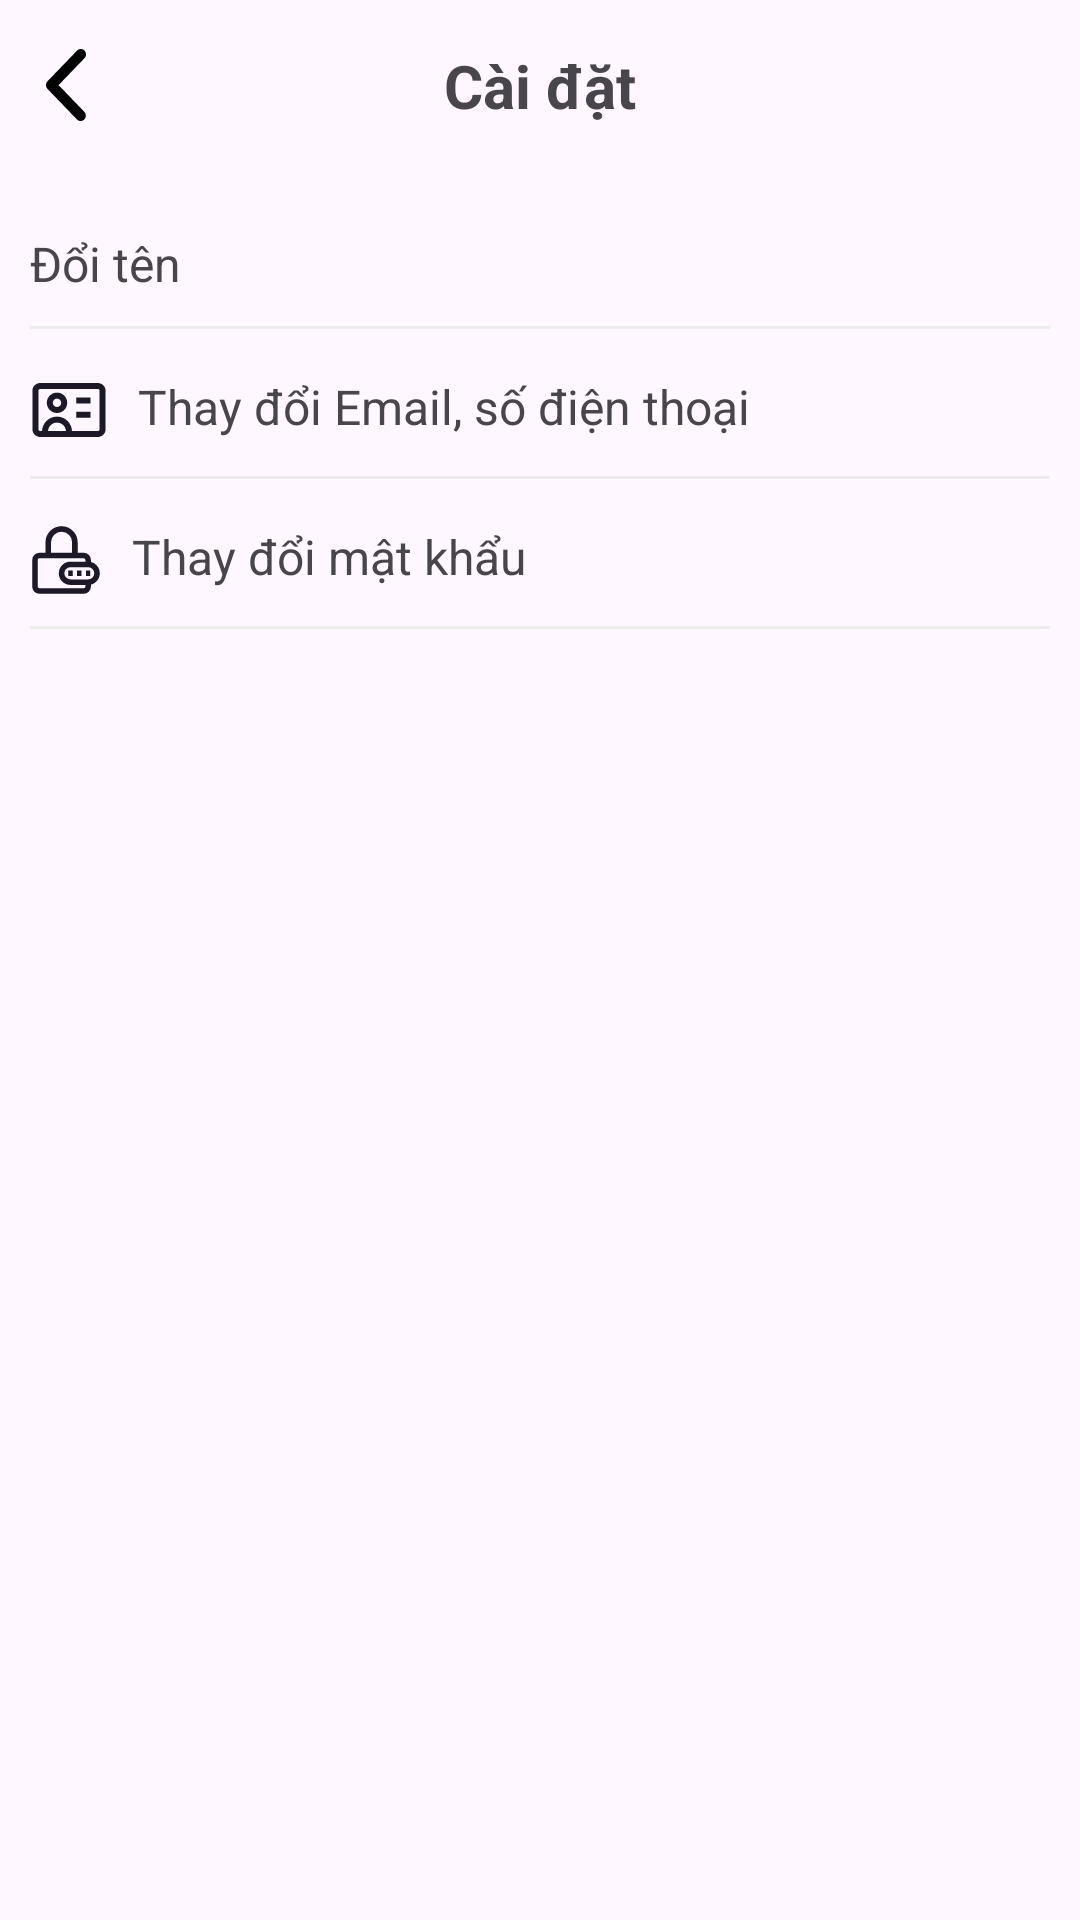

Icons on this 1080*1920 Android screen, each with its box as region(x1, y1, x2, y2):
back: region(46, 49, 86, 121)
